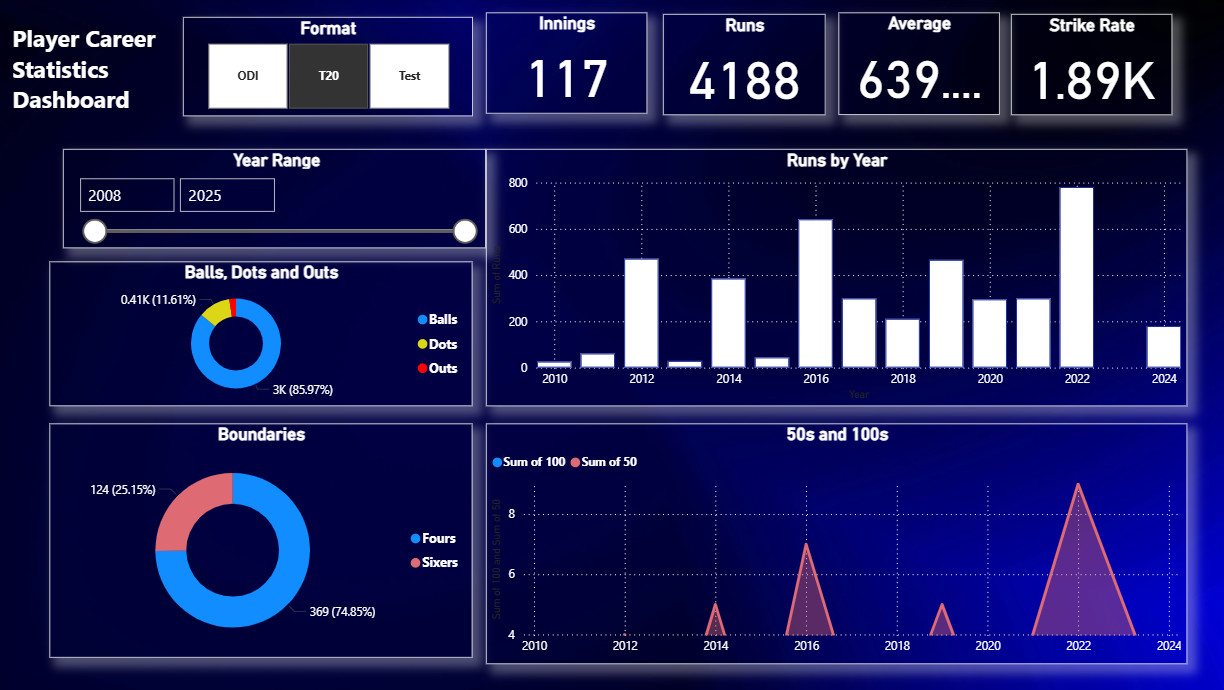

Layout of this report page (visuals, bound fields, positions):
{"tool":"powerbi","page":{"name":"Page 1","canvas":[1280,720],"ordinal":0},"visuals":[{"type":"textbox","box":[10.2,18.6,162.7,115.3],"z":0},{"type":"card","title":"Innings","fields":{"Values":["Sum(Table 1.Innings)"]},"box":[510.2,13.6,167.8,105.1],"z":1000},{"type":"card","title":"Runs","fields":{"Values":["Sum(Table 1.Runs)"]},"box":[693.2,15.3,169.5,105.1],"z":2000},{"type":"card","title":"Average","fields":{"Values":["Sum(Table 1.Avg)"]},"box":[876.3,13.6,167.8,106.8],"z":3000},{"type":"card","title":"Strike Rate","fields":{"Values":["Sum(Table 1.SR)"]},"box":[1055.9,15.3,167.8,105.1],"z":4000},{"type":"slicer","title":"Format","fields":{"Values":["Table 1.Format"]},"box":[193.2,18.6,301.7,103.4],"z":5000},{"type":"slicer","title":"Year Range","fields":{"Values":["Table 1.Year"]},"box":[69.5,155.9,440.7,103.4],"z":6000},{"type":"clusteredColumnChart","title":"Runs by Year","fields":{"Y":["Sum(Table 1.Runs)"],"Category":["Table 1.Year"]},"box":[510.2,155.9,730.5,267.8],"z":7000},{"type":"donutChart","title":"Boundaries","fields":{"Y":["Sum(Table 1.4s)","Sum(Table 1.6s)"]},"box":[54.2,442.4,440.7,244.1],"z":8000},{"type":"stackedAreaChart","title":"50s and 100s","fields":{"Y":["Sum(Table 1.100)","Sum(Table 1.50)"],"Category":["Table 1.Year"]},"box":[510.2,442.4,730.5,250.8],"z":9000},{"type":"donutChart","title":"Balls, Dots and Outs","fields":{"Y":["Sum(Table 1.Balls)","Sum(Table 1.Dot %)","Sum(Table 1.Outs)"]},"box":[54.2,272.9,440.7,150.8],"z":10000}]}

Visuals, with their boxes in screenshot pixels (x1, y1, x2, y2), scaled from the page's 1280x720 canvas onto the 1224x690 screenshot:
textbox: region(10, 18, 165, 128)
"Innings" card: region(488, 13, 648, 114)
"Runs" card: region(663, 15, 825, 115)
"Average" card: region(838, 13, 998, 115)
"Strike Rate" card: region(1010, 15, 1170, 115)
"Format" slicer: region(185, 18, 473, 117)
"Year Range" slicer: region(66, 149, 488, 248)
"Runs by Year" clusteredColumnChart: region(488, 149, 1186, 406)
"Boundaries" donutChart: region(52, 424, 473, 658)
"50s and 100s" stackedAreaChart: region(488, 424, 1186, 664)
"Balls, Dots and Outs" donutChart: region(52, 262, 473, 406)
